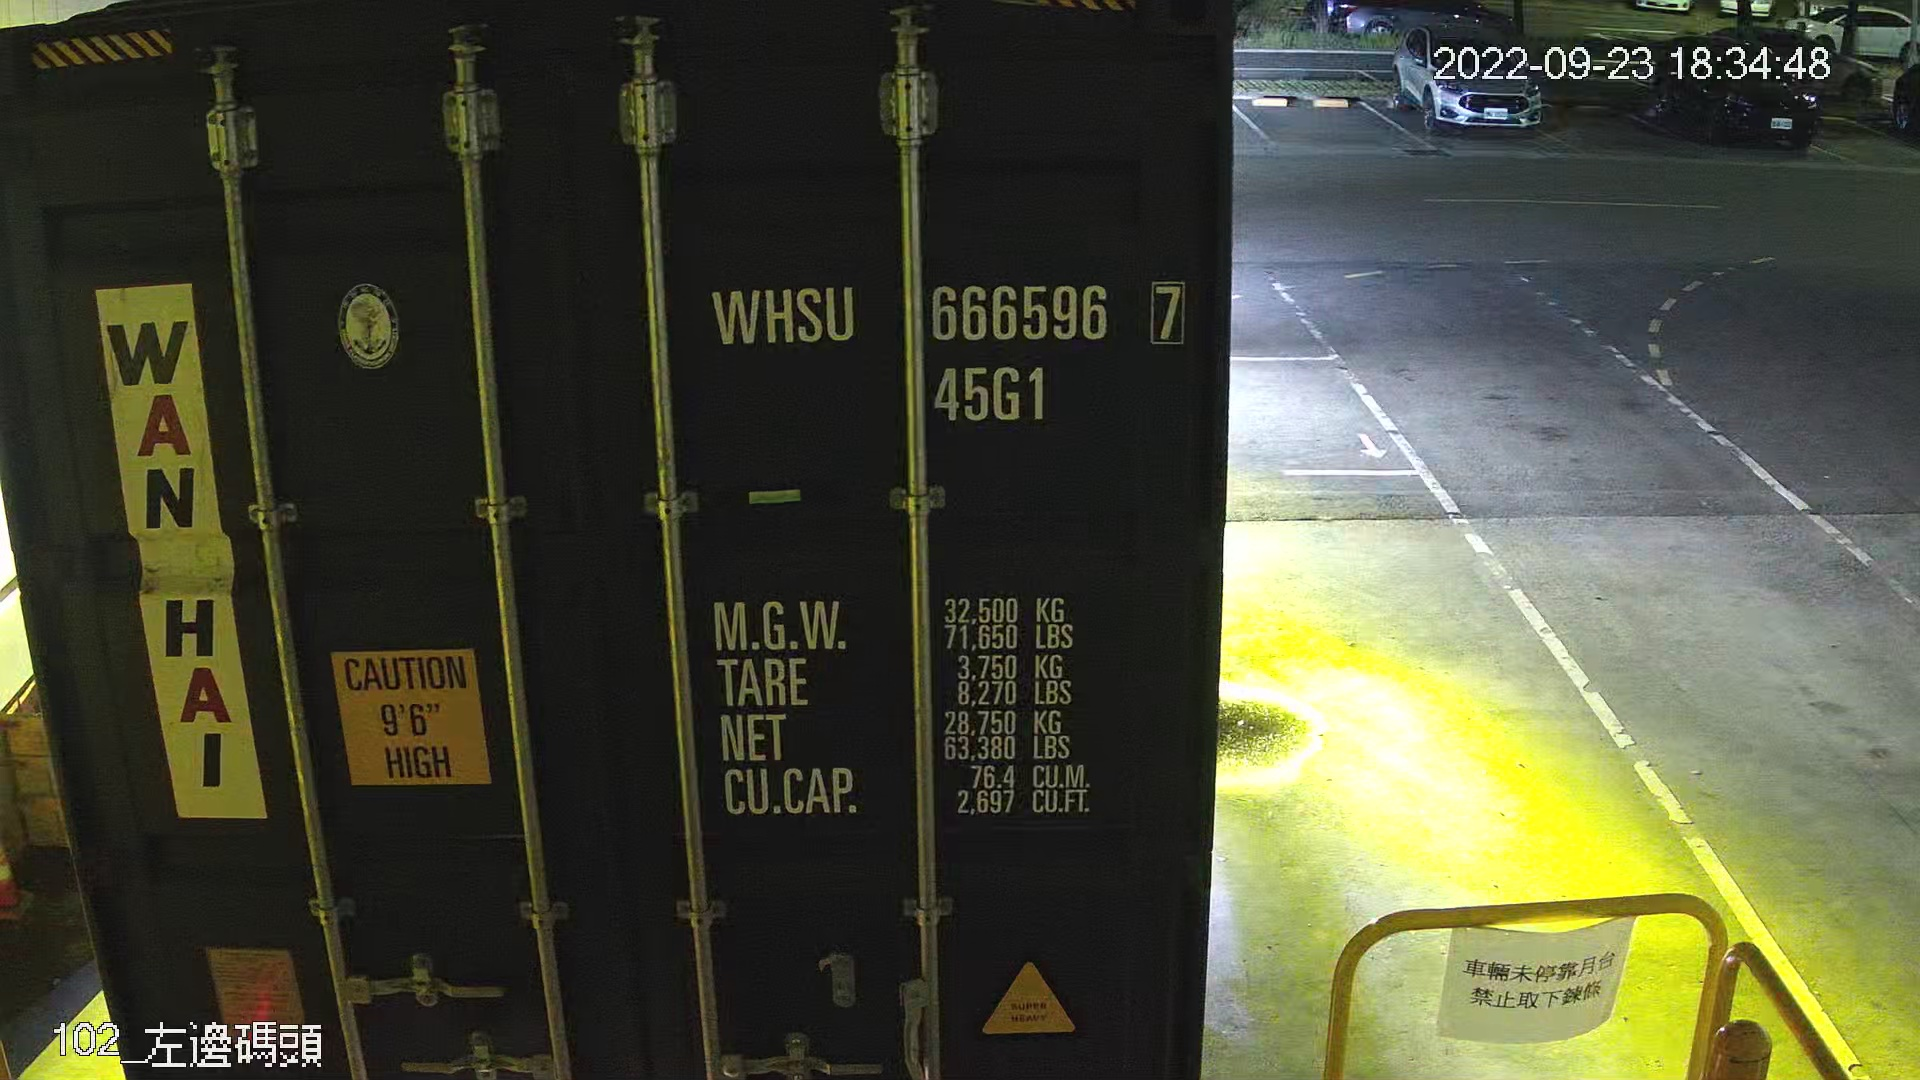container: (692, 269, 1197, 436)
